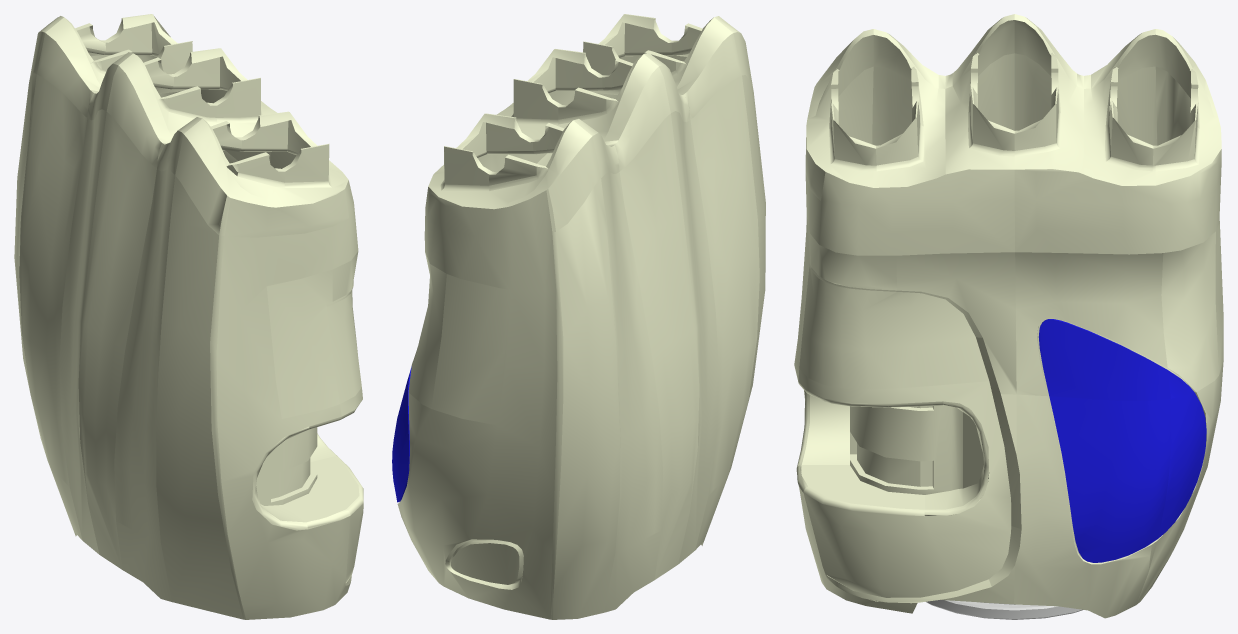
Rendered from left_palm.dae.
The picture shows the model from 3 angles, left to right: view 1: azimuth 30°, elevation 25°; view 2: azimuth 150°, elevation 25°; view 3: azimuth 270°, elevation 25°; orthographic projection.
Visible parts, largest first — view 1: ShapeIndexedFaceSet; view 2: ShapeIndexedFaceSet; view 3: ShapeIndexedFaceSet.
Part boxes in pixels (x1=…): ShapeIndexedFaceSet: x1=14, y1=14, x2=363, y2=619; ShapeIndexedFaceSet: x1=392, y1=14, x2=765, y2=619; ShapeIndexedFaceSet: x1=794, y1=14, x2=1223, y2=619.
Size of the model in its own units: 0.0817 by 0.1232 by 0.1664.
